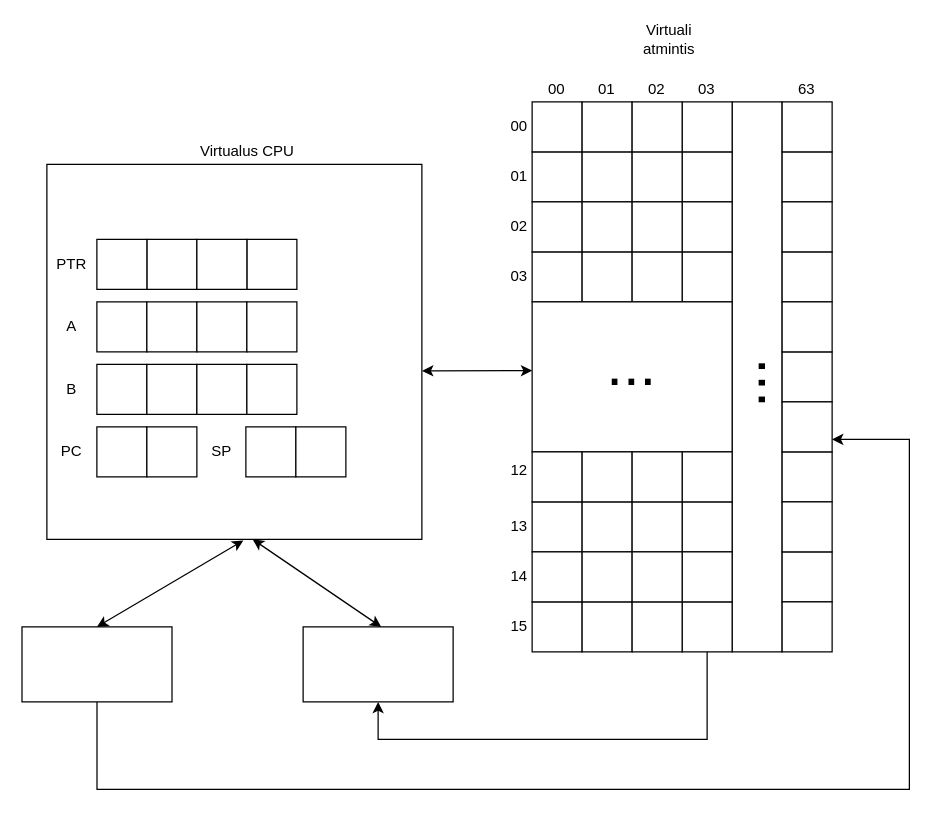
This 941x821 diagram has some shape labels left out. The centre of each missing label's shape, as x and y in pixels:
Virtualus išvedimo įrenginys: point 377,664
Virtualus įvedimo įrenginys: point 96,664
